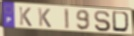9: (76, 9, 92, 31)
D: (111, 11, 132, 34)
I: (63, 8, 71, 31)
K: (18, 6, 33, 28), (38, 7, 53, 29)
S: (94, 10, 112, 33)
